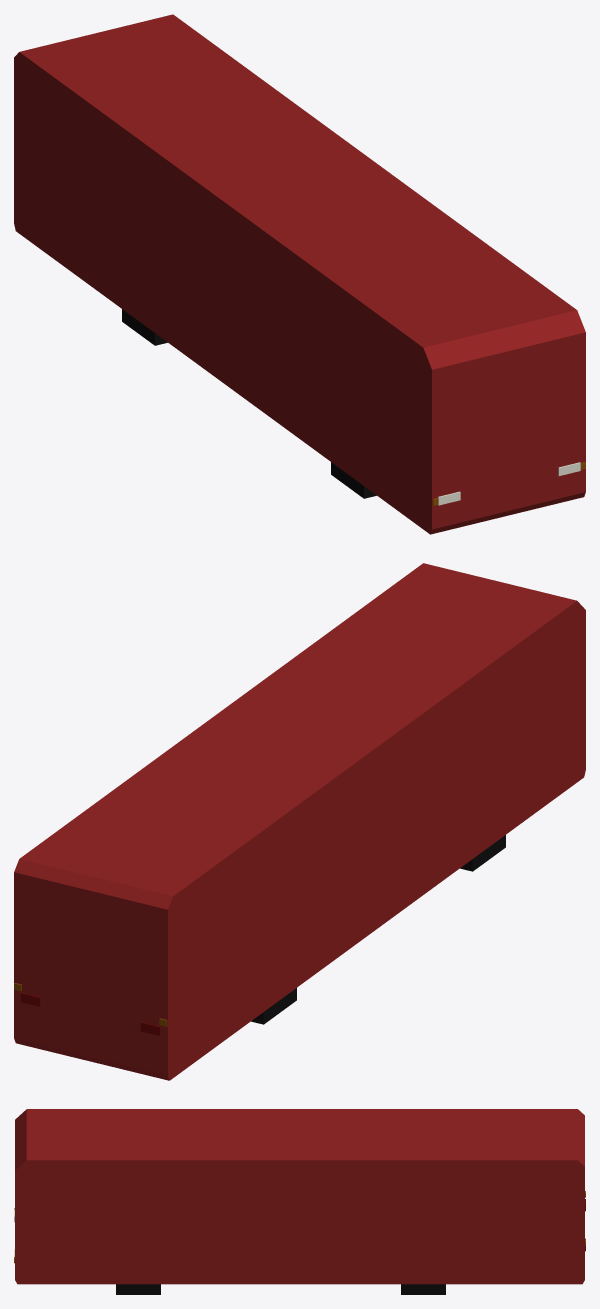
3 views of the same model, one above another, from view 1: azimuth 30°, elevation 25°; view 2: azimuth 150°, elevation 25°; view 3: azimuth 270°, elevation 25° (orthographic). The views are drawn at different scales.
Parts seen in each view (by area): view 1: shell, wheels; view 2: shell, wheels; view 3: shell, wheels.
Part boxes in pixels (x1,y1,x2,y2): shell: (14,14,585,534); wheels: (122,309,376,498); shell: (14,563,585,1080); wheels: (251,835,505,1024); shell: (15,1109,584,1284); wheels: (116,1284,445,1294).
Size of the model in its own units: 2.55 by 3.18 by 12.04.
